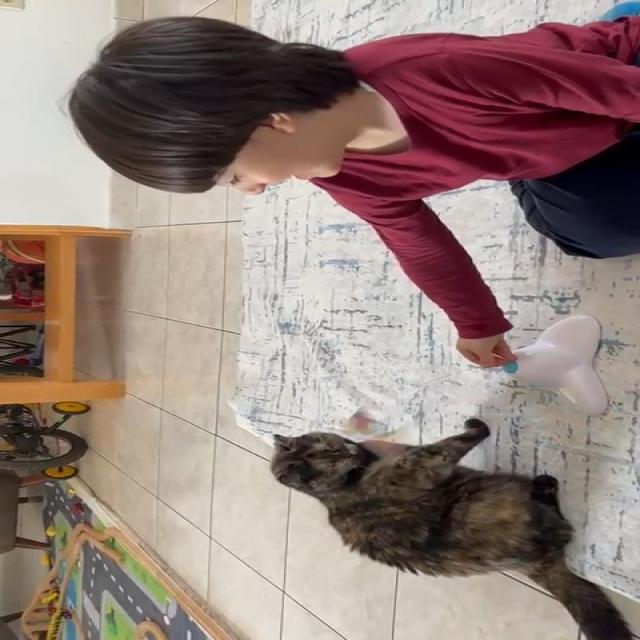authorized: (268, 418, 637, 640)
